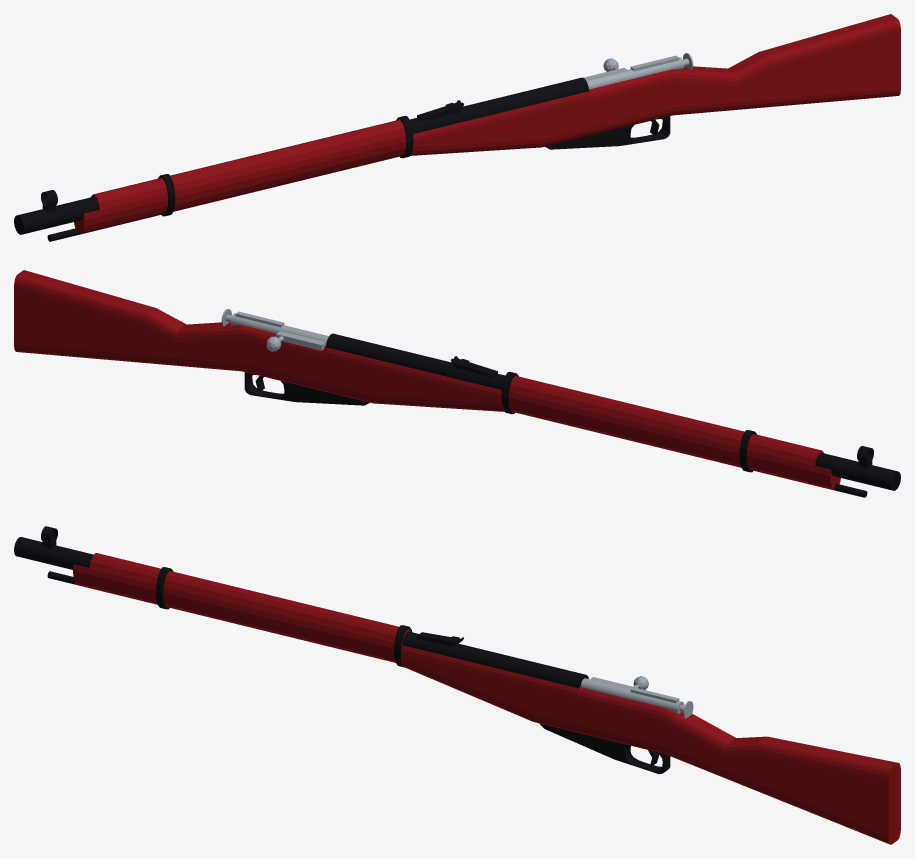
Rendered from mosin-nagant0055.obj.
3 views of the same model, one above another, from view 1: azimuth 30°, elevation 25°; view 2: azimuth 150°, elevation 25°; view 3: azimuth 330°, elevation 25° (orthographic).
Visible parts, largest first — view 1: stock, barrel, triggerGuard, bolt; view 2: stock, barrel, triggerGuard, bolt, boltLocker; view 3: stock, barrel, triggerGuard, bolt.
Part boxes in pixels (<box>): stock: <box>74,14,900,234</box>; barrel: <box>14,77,588,234</box>; triggerGuard: <box>545,116,670,149</box>; bolt: <box>586,57,684,89</box>; stock: <box>14,270,840,490</box>; barrel: <box>326,333,900,490</box>; triggerGuard: <box>244,372,369,405</box>; bolt: <box>230,313,328,345</box>; boltLocker: <box>276,331,325,350</box>; stock: <box>73,553,900,844</box>; barrel: <box>14,537,588,688</box>; triggerGuard: <box>539,723,670,774</box>; bolt: <box>581,678,684,713</box>.
Size of the model in its own units: 16.32 by 1.93 by 0.818.
